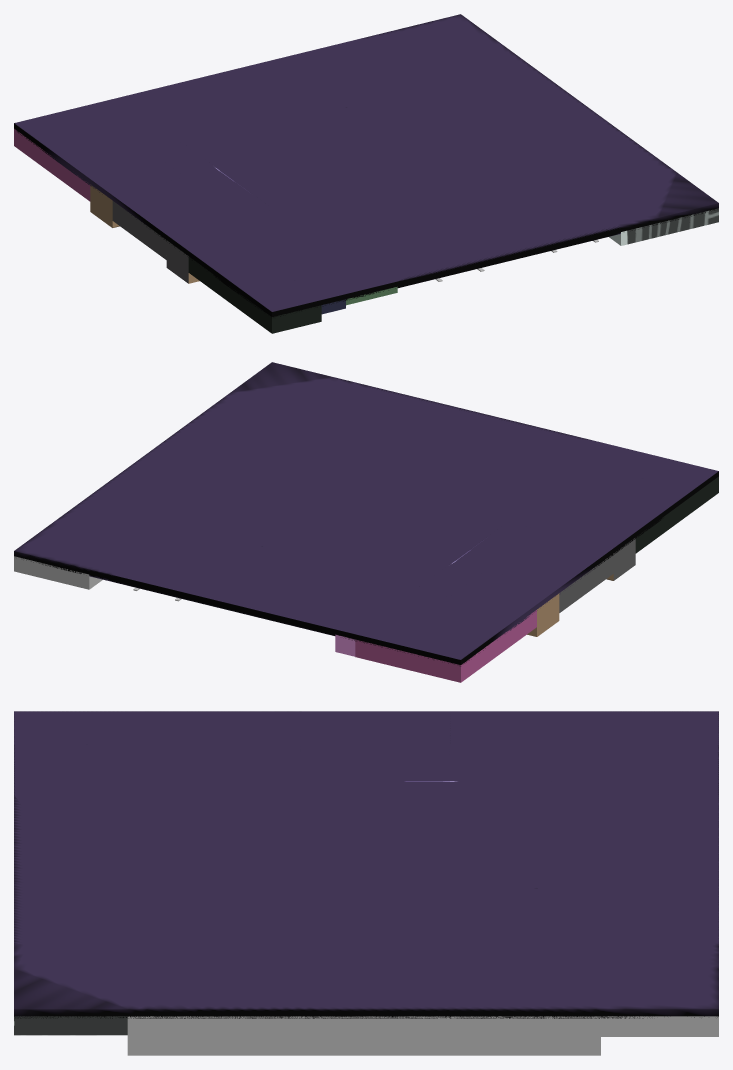
File: FutureCell_V1F.fbx
3 renders of one model, top to bottom at view 1: azimuth 30°, elevation 25°; view 2: azimuth 150°, elevation 25°; view 3: azimuth 270°, elevation 25°, orthographic. The views are drawn at different scales.
Visible parts, largest first — view 1: Escalera.001; view 2: Escalera.001; view 3: Escalera.001.
Part boxes in pixels (<box>): Escalera.001: <box>14,14,718,333</box>; Escalera.001: <box>14,362,718,682</box>; Escalera.001: <box>14,711,718,1055</box>.
Size of the model in its own units: 4978 by 361 by 4980.
